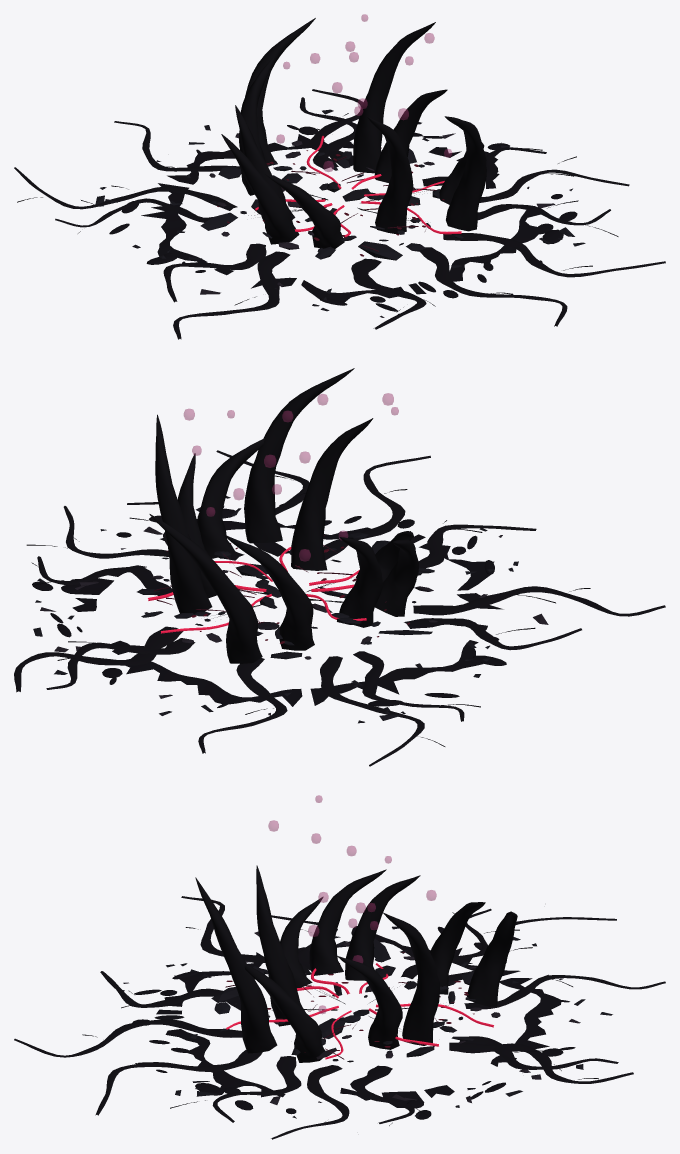
File: gloom-v6.glb
The picture shows the model from 3 angles, top to bottom: view 1: azimuth 30°, elevation 25°; view 2: azimuth 150°, elevation 25°; view 3: azimuth 270°, elevation 25°; orthographic projection. The views are drawn at different scales.
Parts seen in each view (by area): view 1: gloom-tendril (×10), gloom-creeping-ribbon (×13), gloom-fractured-shore, b5:gloom-floor-patch, gloom-crusted-plaque; view 2: gloom-tendril (×10), gloom-creeping-ribbon (×12), gloom-fractured-shore, b5:gloom-floor-patch; view 3: gloom-tendril (×10), gloom-creeping-ribbon (×11), gloom-fractured-shore, b5:gloom-floor-patch.
Boxes of the visible parts, x1,y1,x2,y2 form: gloom-tendril (×10): (221, 18, 486, 248); gloom-creeping-ribbon (×13): (14, 89, 665, 339); gloom-fractured-shore: (141, 134, 552, 305); b5:gloom-floor-patch: (276, 14, 452, 171); gloom-crusted-plaque: (358, 241, 402, 260); gloom-tendril (×10): (149, 368, 418, 663); gloom-creeping-ribbon (×12): (14, 450, 665, 766); gloom-fractured-shore: (70, 521, 503, 706); b5:gloom-floor-patch: (183, 393, 398, 561); gloom-tendril (×10): (195, 865, 517, 1062); gloom-creeping-ribbon (×11): (14, 896, 665, 1139); gloom-fractured-shore: (156, 934, 561, 1107); b5:gloom-floor-patch: (268, 795, 436, 1014).
Bounding box in the file's own units: 1.54 × 0.5599 × 1.73.
